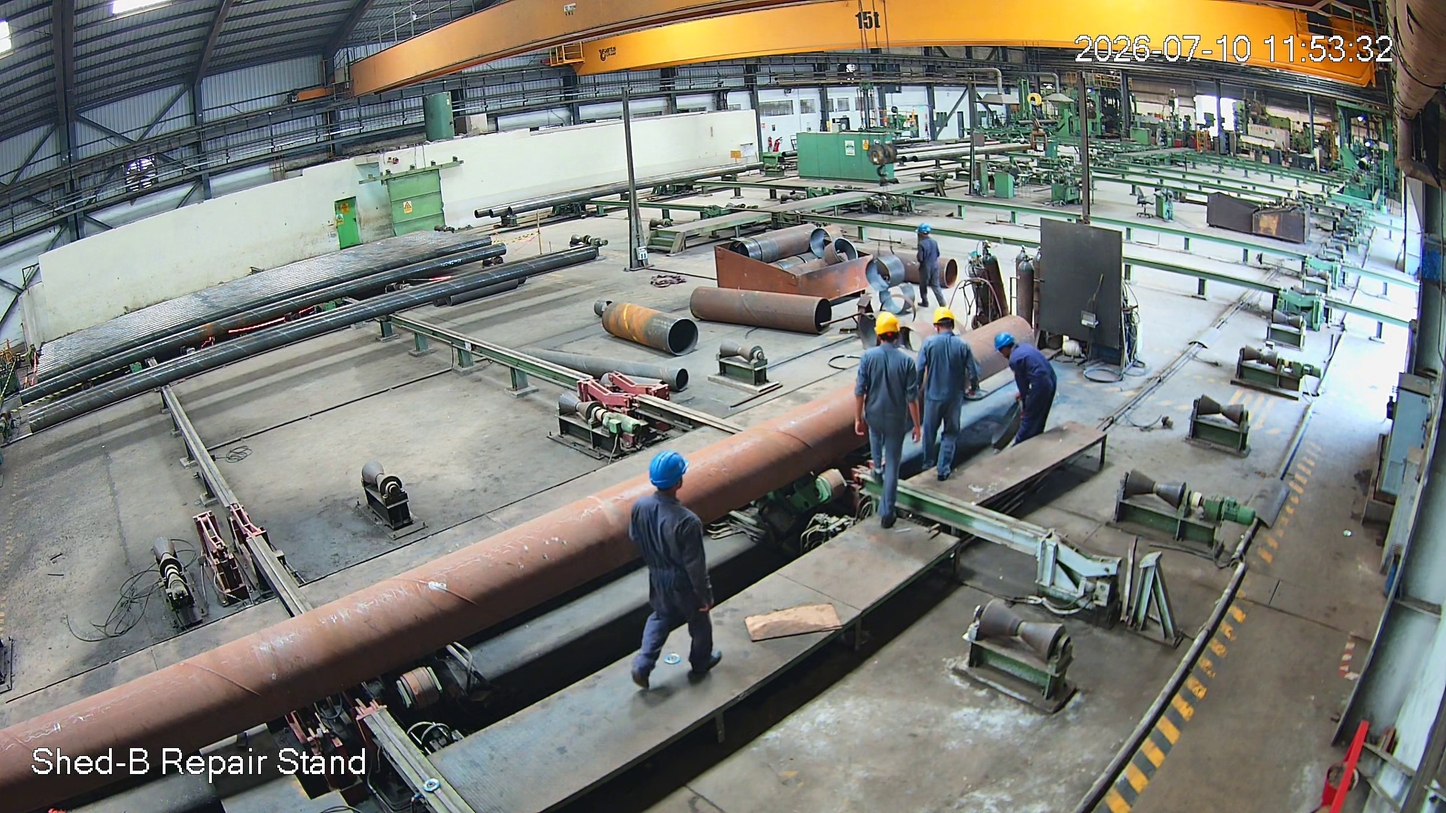Helmet: (642, 443, 698, 511), (868, 305, 903, 360), (930, 302, 962, 343), (992, 321, 1023, 362), (917, 216, 932, 247)
Person: (608, 451, 732, 689), (858, 310, 921, 527), (990, 327, 1068, 453), (924, 305, 974, 489), (910, 217, 947, 312)
